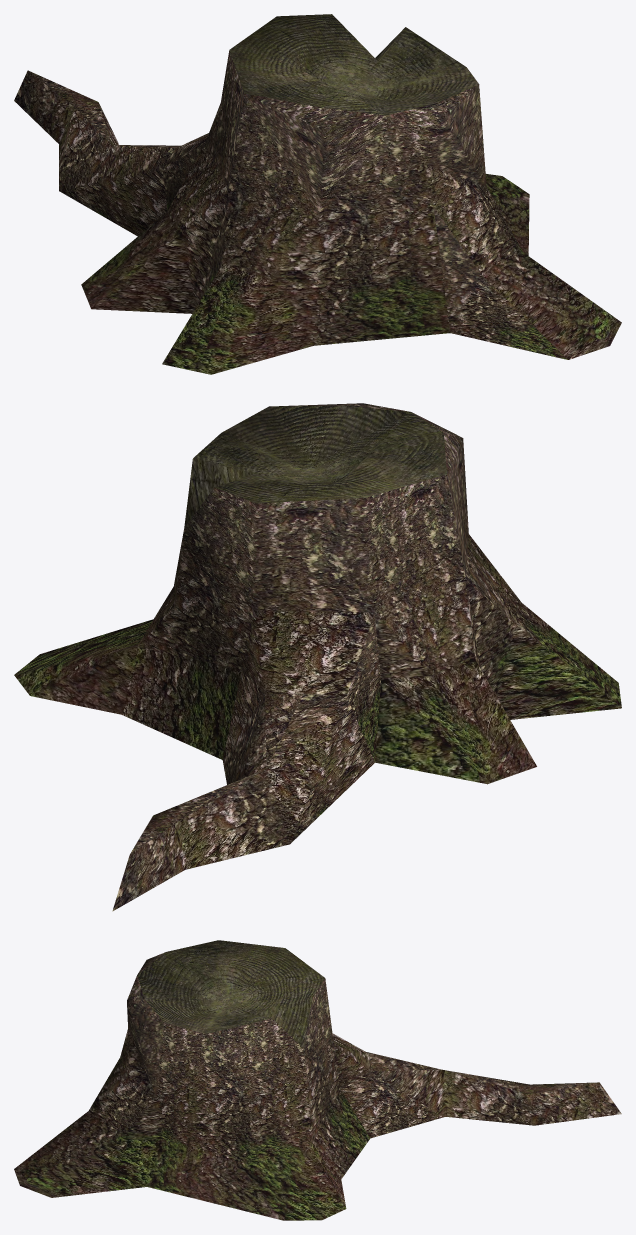
Rendered from NW_NATURE_BAUMSTUMPF_02_115P.glb.
The picture shows the model from 3 angles, top to bottom: view 1: azimuth 30°, elevation 25°; view 2: azimuth 150°, elevation 25°; view 3: azimuth 270°, elevation 25°; orthographic projection. The views are drawn at different scales.
Visible parts, largest first — view 1: Mesh; view 2: Mesh; view 3: Mesh.
Part boxes in pixels (left/top/right/bottom): Mesh: left=14, top=14, right=621, bottom=374; Mesh: left=14, top=403, right=621, bottom=911; Mesh: left=14, top=940, right=621, bottom=1220.
Size of the model in its own units: 2.66 by 1.22 by 4.13.
2 materials, 2 textured.
